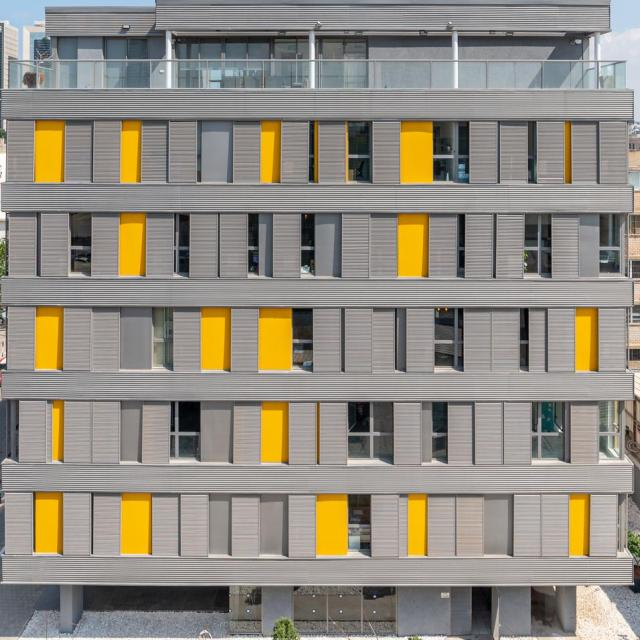door: (293, 585, 396, 636), (229, 587, 262, 635)
railing: (9, 59, 627, 89)
window: (179, 37, 309, 59), (348, 403, 395, 458), (432, 119, 470, 182), (167, 402, 202, 458), (533, 402, 564, 461), (433, 308, 464, 367), (524, 212, 552, 275), (68, 212, 92, 275), (349, 495, 373, 552), (348, 121, 370, 182), (599, 401, 621, 460), (600, 213, 620, 272), (102, 35, 147, 60), (292, 309, 312, 365), (313, 39, 367, 59), (172, 213, 190, 273), (431, 402, 449, 459), (298, 214, 315, 274), (248, 211, 259, 275)
